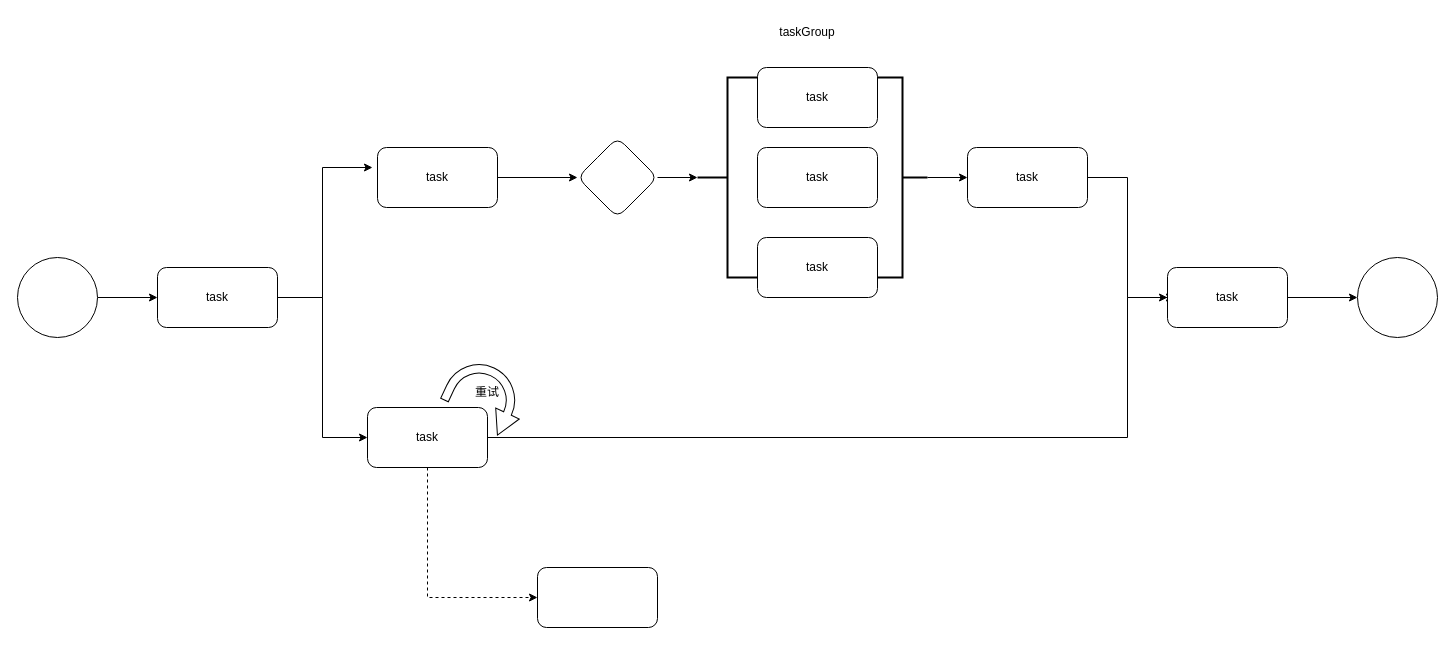
The diagram is 1455 pixels wide and 645 high, and some of its shapes have lost their labels. Here are the shapes that lost their labels. From the top down, the box of each, then its label:
(576, 136, 658, 218): 路由
(16, 256, 98, 338): 开始
(1356, 256, 1438, 338): 结束
(536, 566, 658, 628): 异步task
